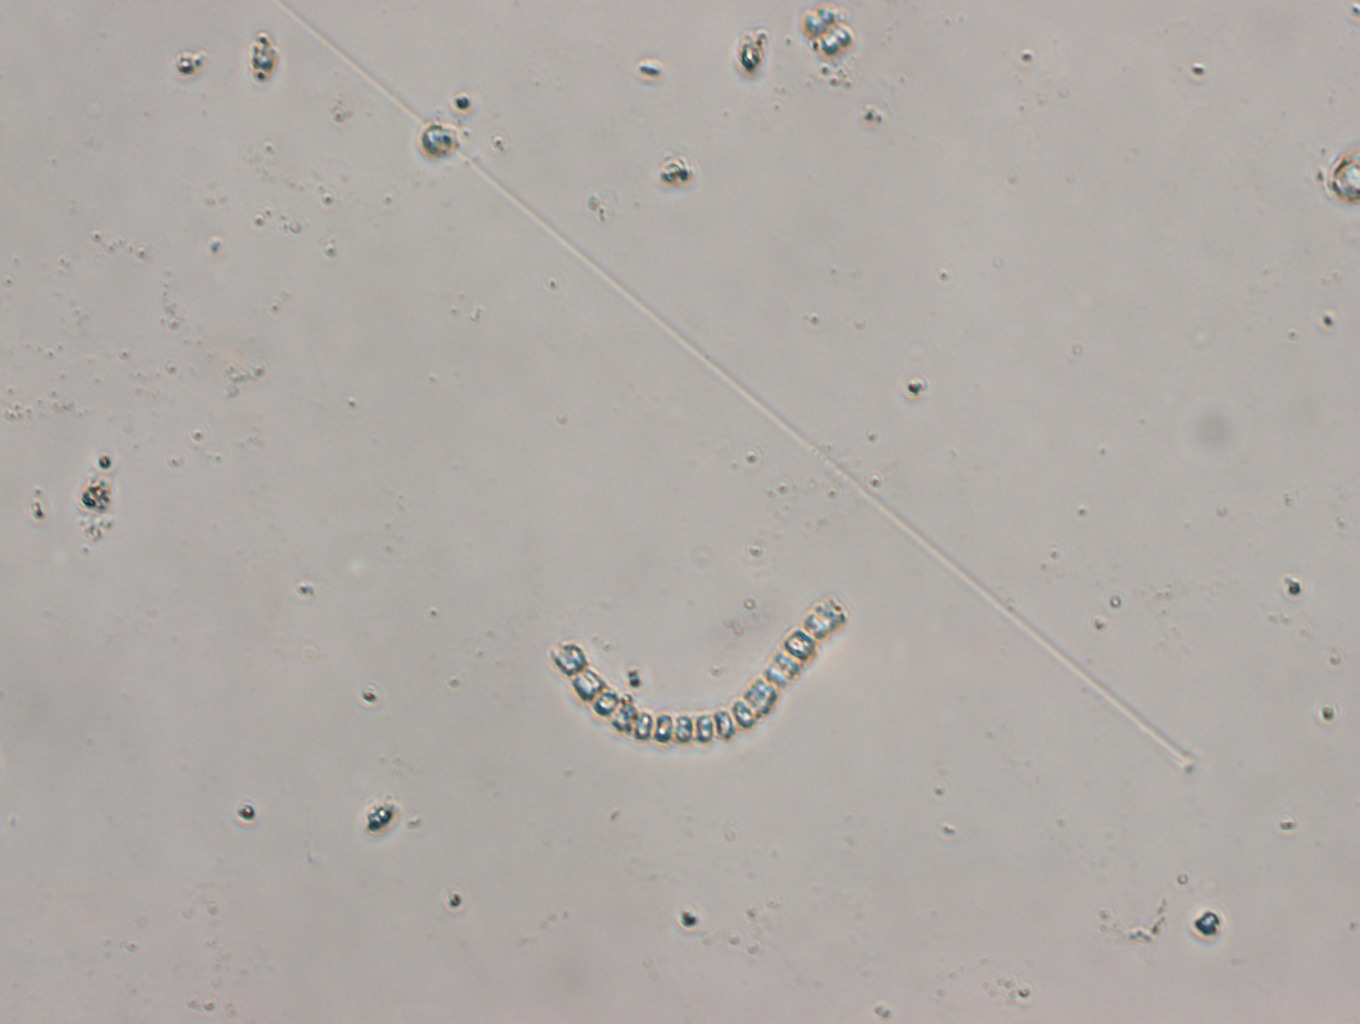skeletonema: (549, 594, 853, 749)
